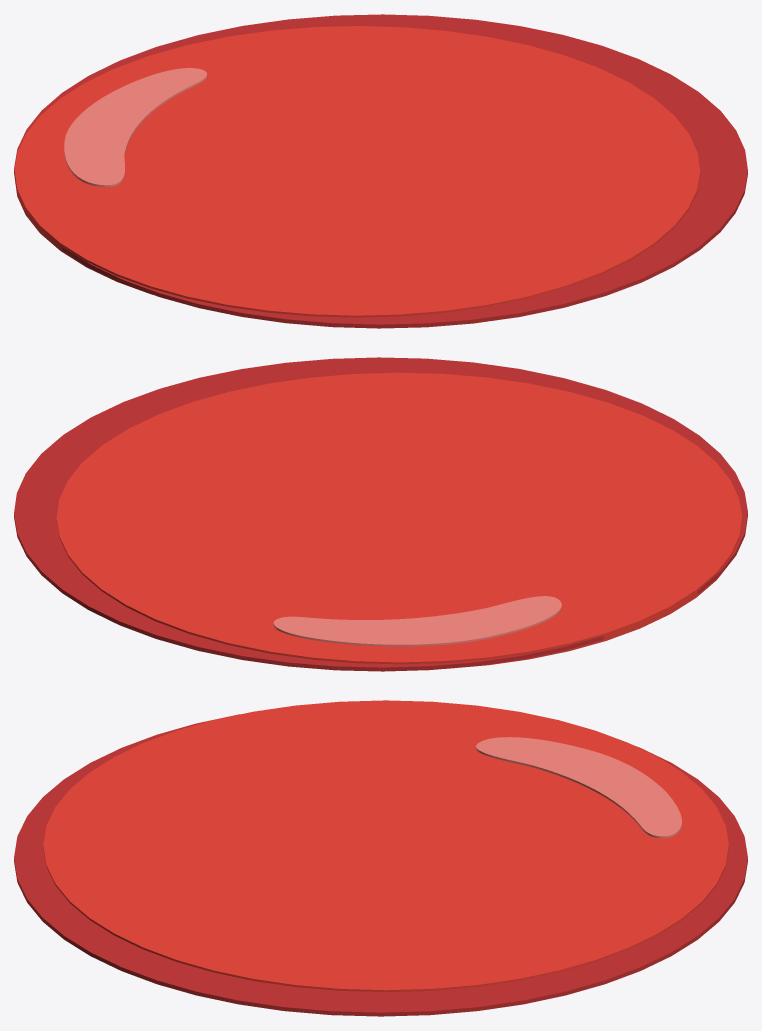
The model's file is emoji_u1f534.glb.
3 views of the same model, one above another, from view 1: azimuth 30°, elevation 25°; view 2: azimuth 150°, elevation 25°; view 3: azimuth 270°, elevation 25° (orthographic).
Parts seen in each view (by area): view 1: emoji_u1f534; view 2: emoji_u1f534; view 3: emoji_u1f534.
Boxes of the visible parts, <box> form: emoji_u1f534: <box>14,14,747,328</box>; emoji_u1f534: <box>14,357,747,671</box>; emoji_u1f534: <box>14,700,747,1016</box>.
Size of the model in its own units: 0.0339 by 0.0006 by 0.0339.
